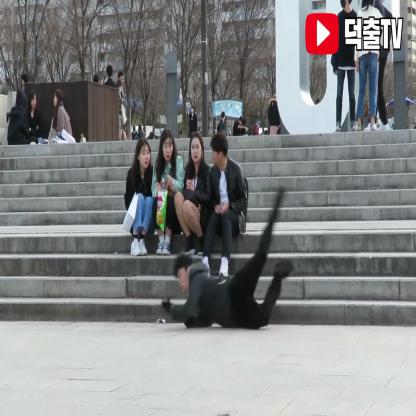Fall_Down: (162, 182, 298, 333)
